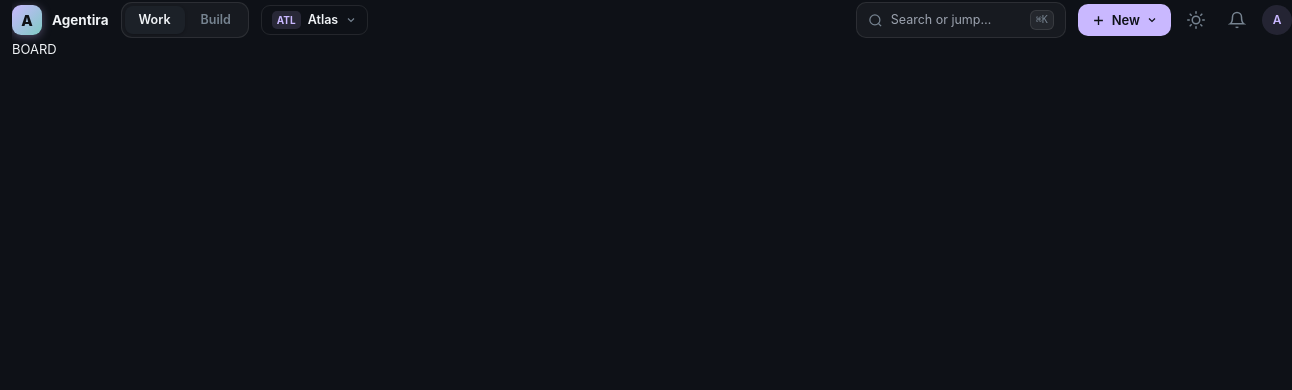
Test: AppTopbar — blended bar › lists Task, Project, Epic, Milestone and Agent in the New menu
Click the text "New" at {"x": 1126, "y": 20}, box [1112,11,1140,29]
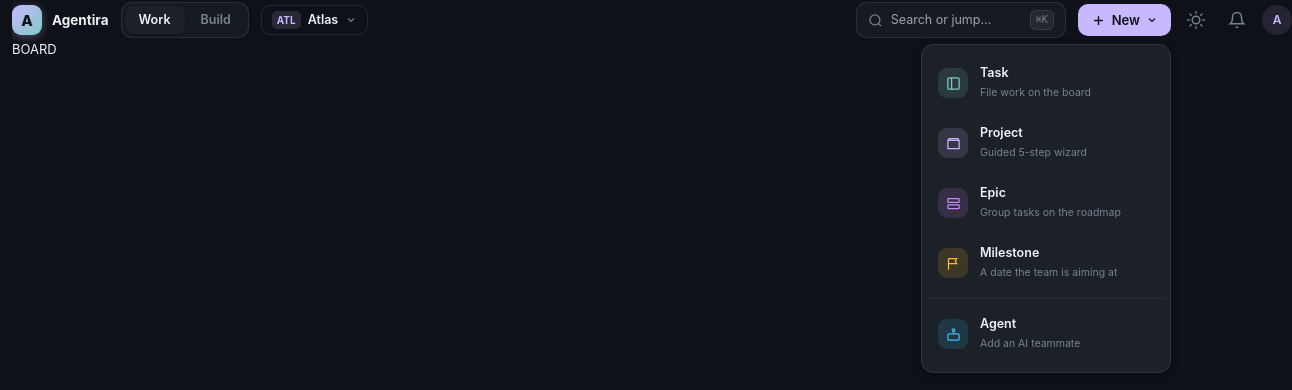
Check: the text "Task" is shown, box [980,65,1008,80]
Check: the text "Project" is shown, box [980,125,1023,140]
Check: the text "Epic" is shown, box [980,185,1006,200]
